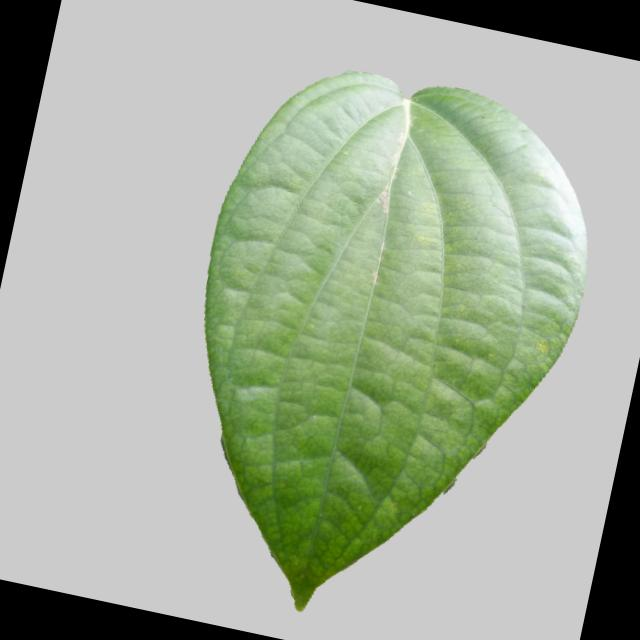healthy: (135, 43, 620, 640)
